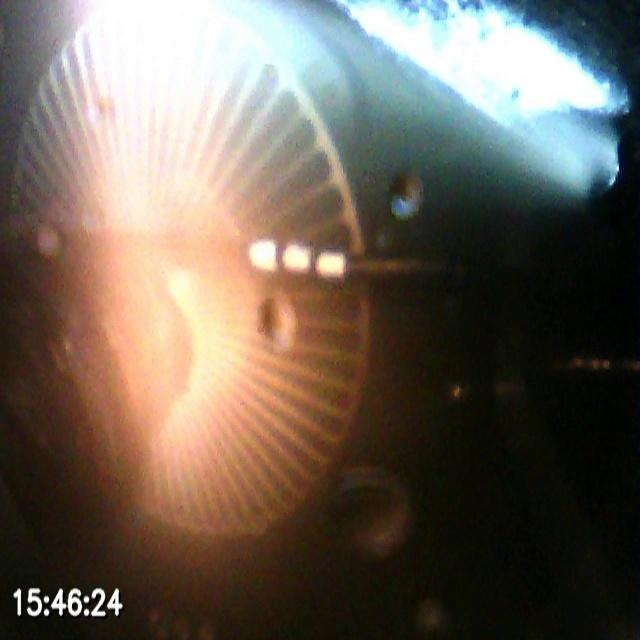white-dots: (246, 238, 349, 283)
